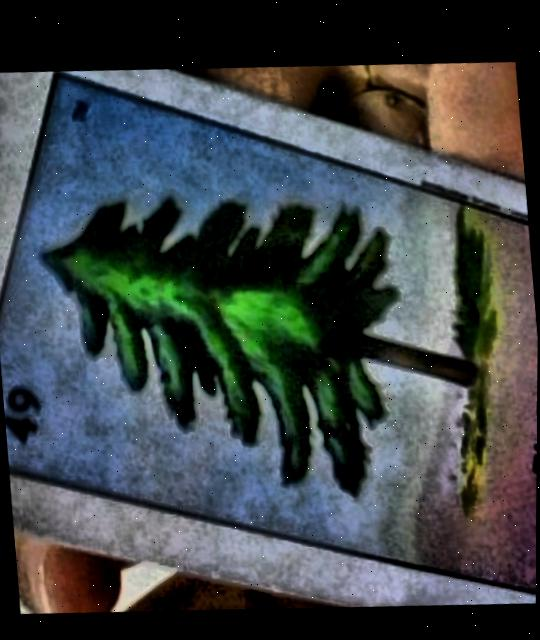El Pino: (0, 72, 538, 588)
